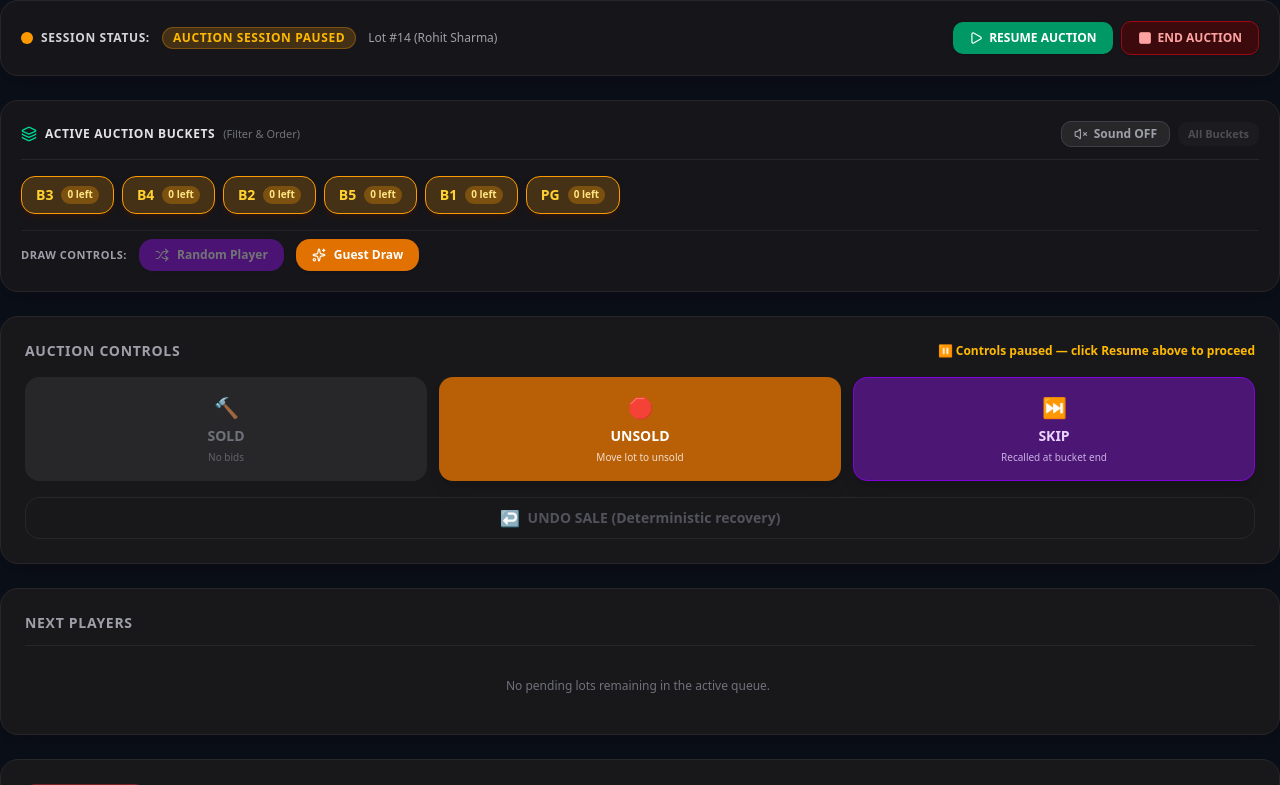
Test case: Fix C — Optimistic Resume on Admin Operator Controls › 2. Rolls back sessionState and activeLot to paused state if resume server action fails
The image size is (1280, 785).
Click the button "RESUME AUCTION": (1033, 38) [953,22,1113,54]
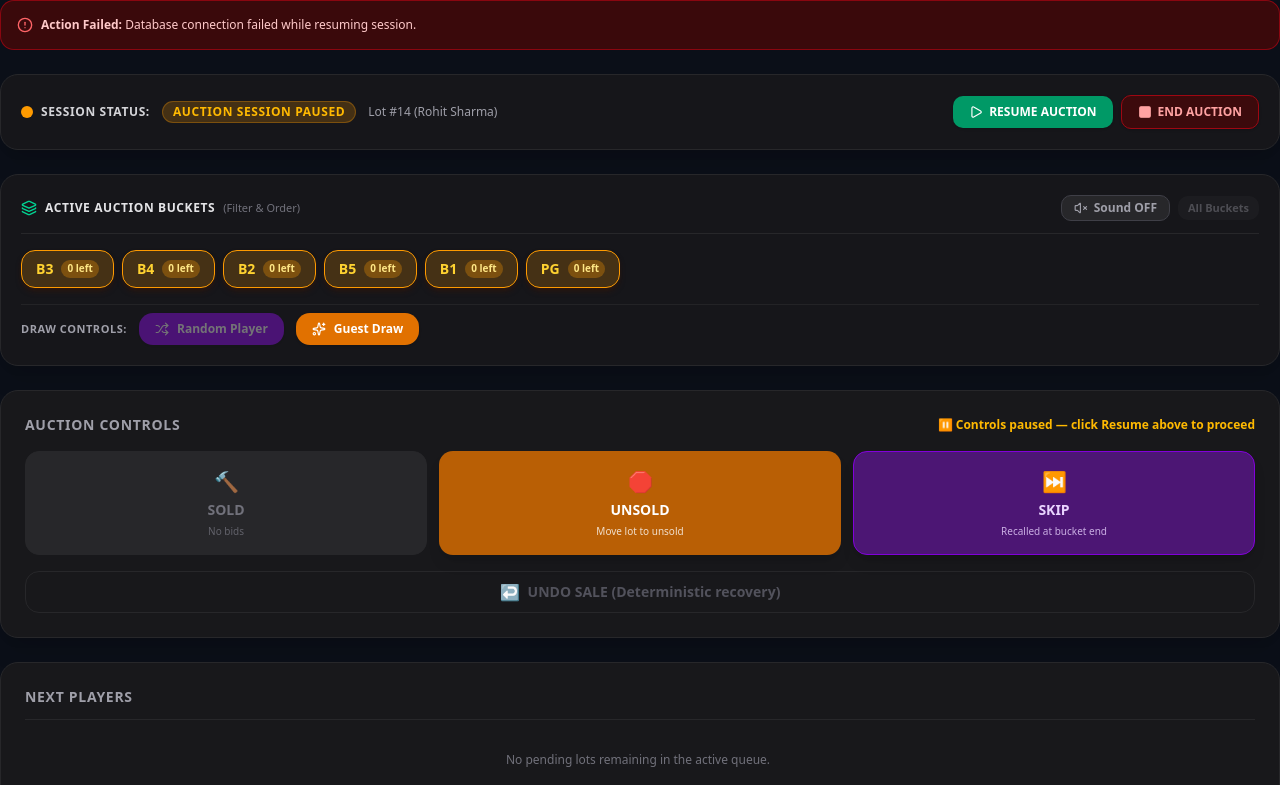
Expected: the text "Database connection failed while resuming session" is shown, [125,16,416,33]
